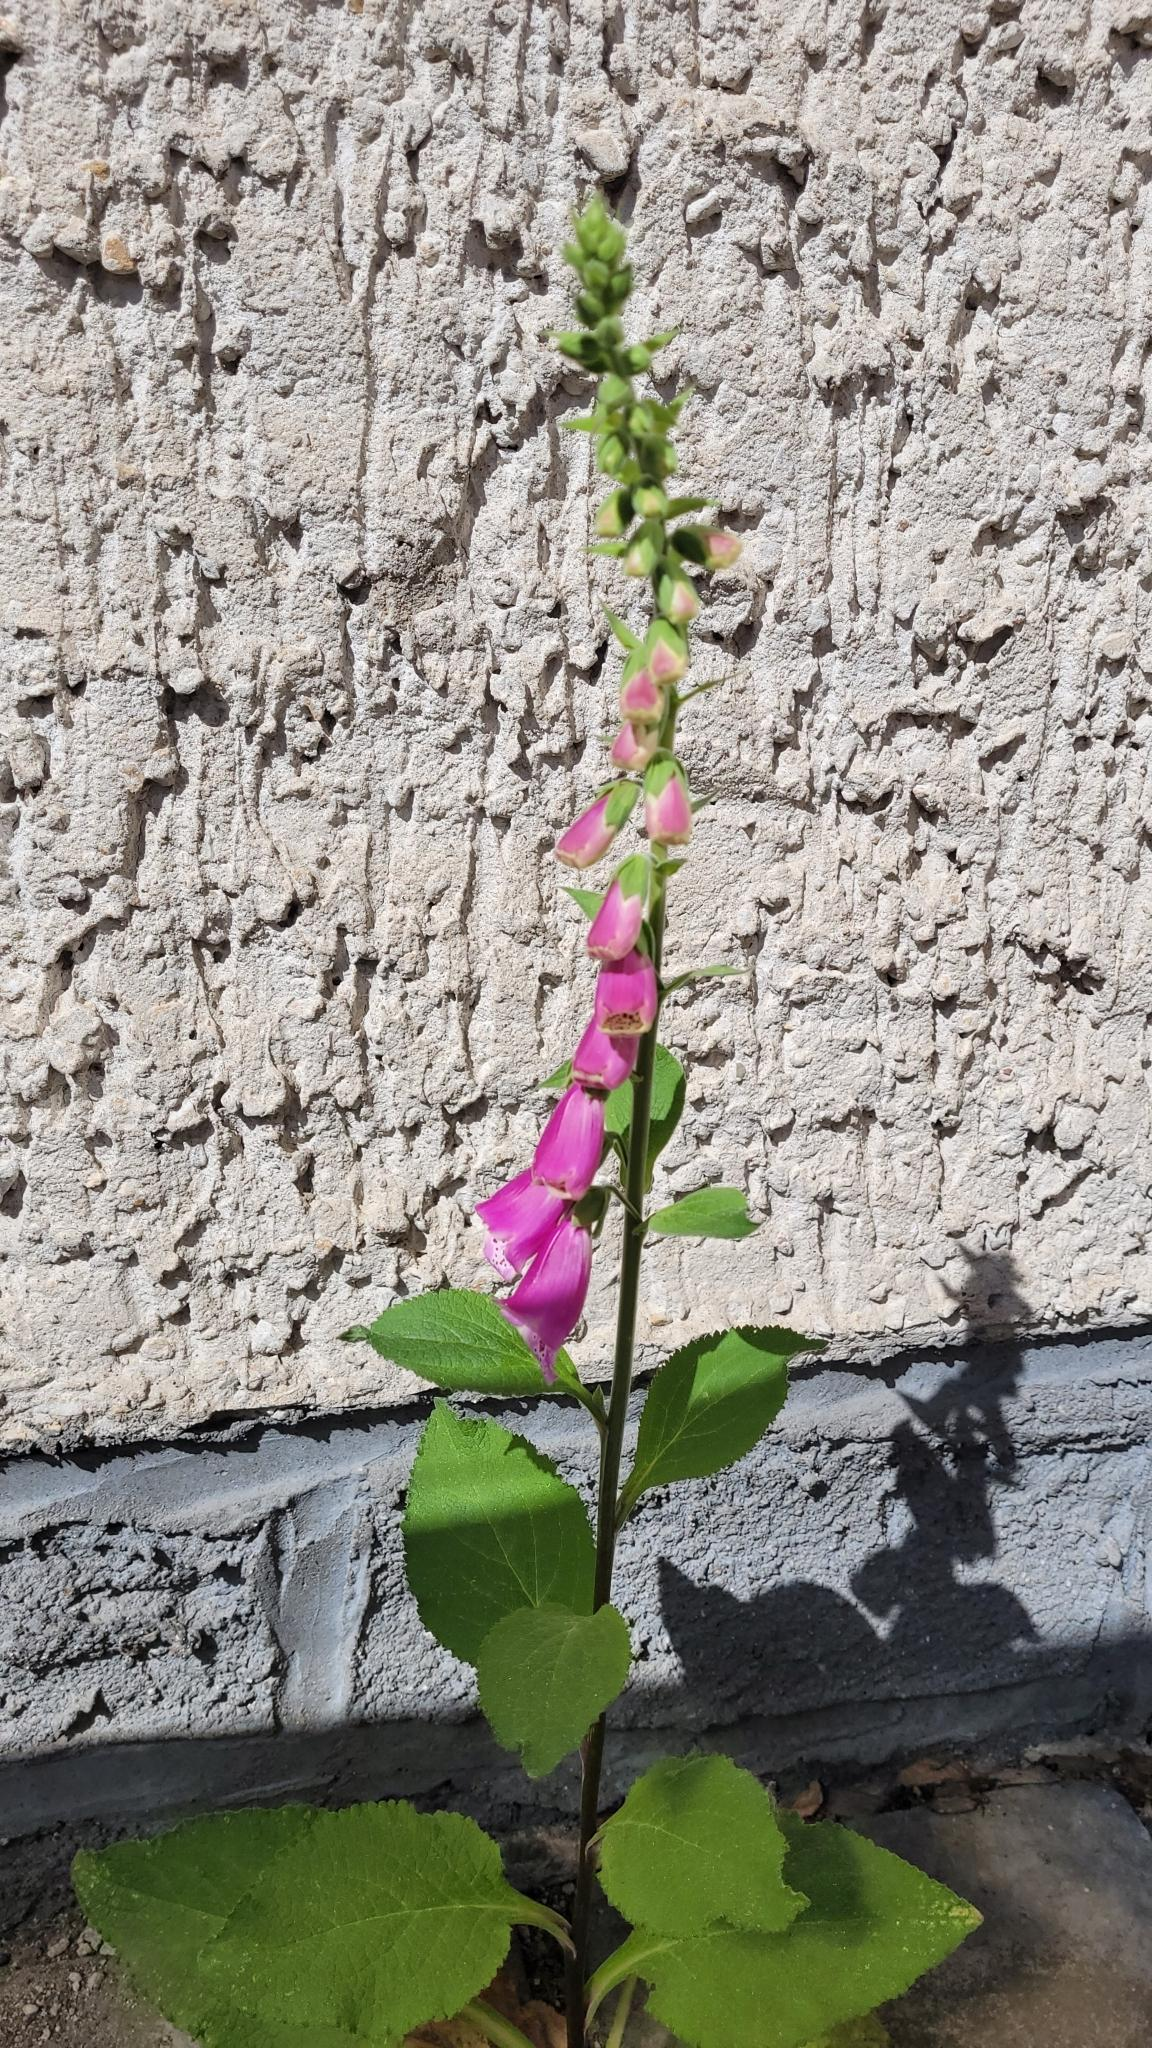Digitalis L: (76, 190, 972, 2042)
